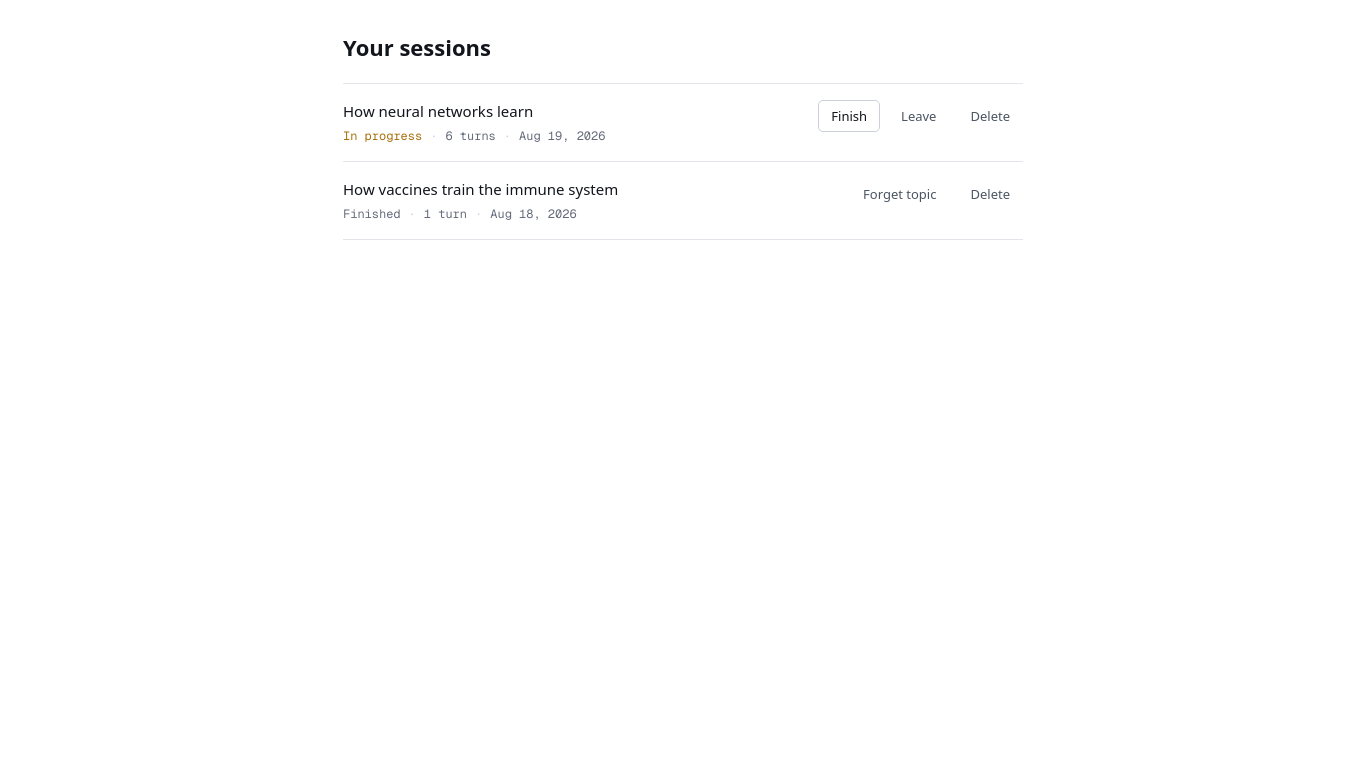
Test: SessionList › the verbs › names the topic in the confirmation, so nobody deletes the wrong one
The image size is (1366, 768).
Click the button "Delete" in the row of "How vaccines train the immune system" at (990, 194), box [958,178,1023,210]
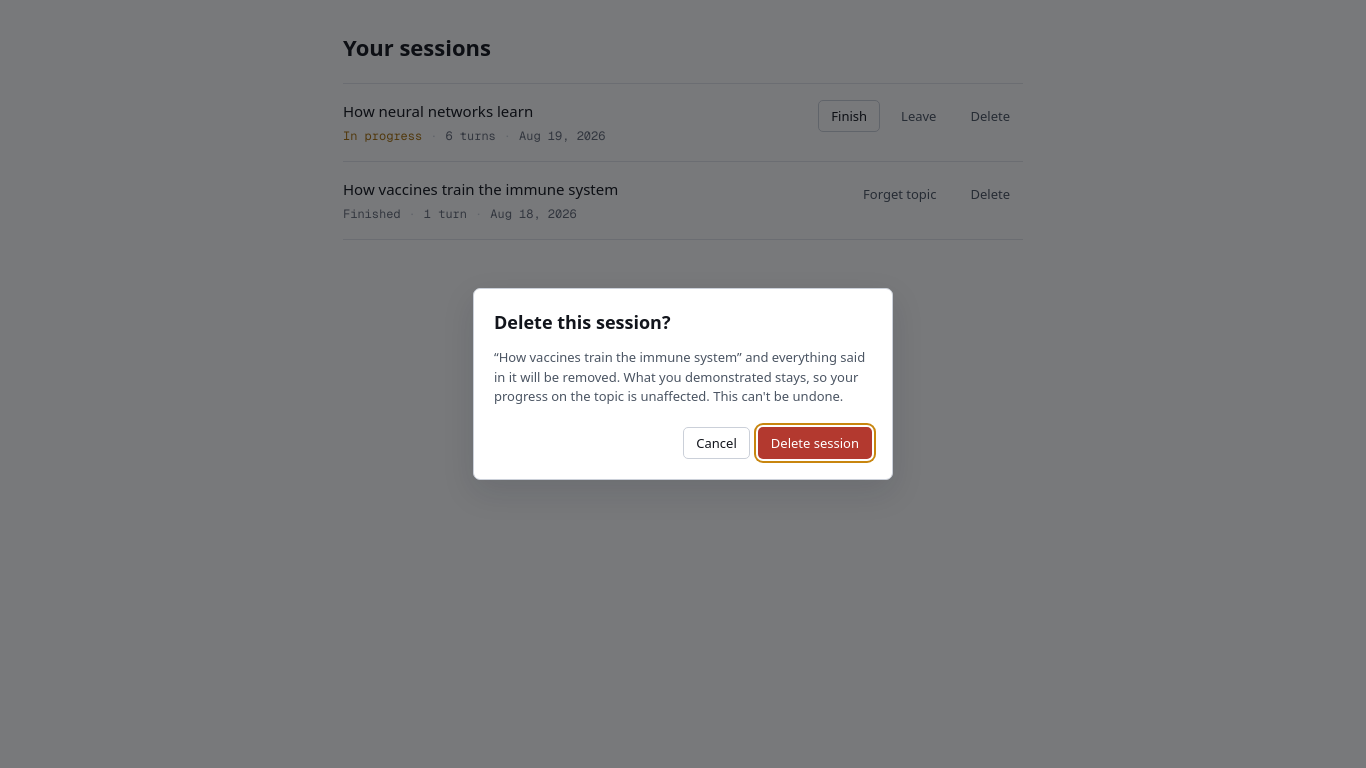
expect the dialog shows "How vaccines train the immune system": met, box [494,348,865,405]
